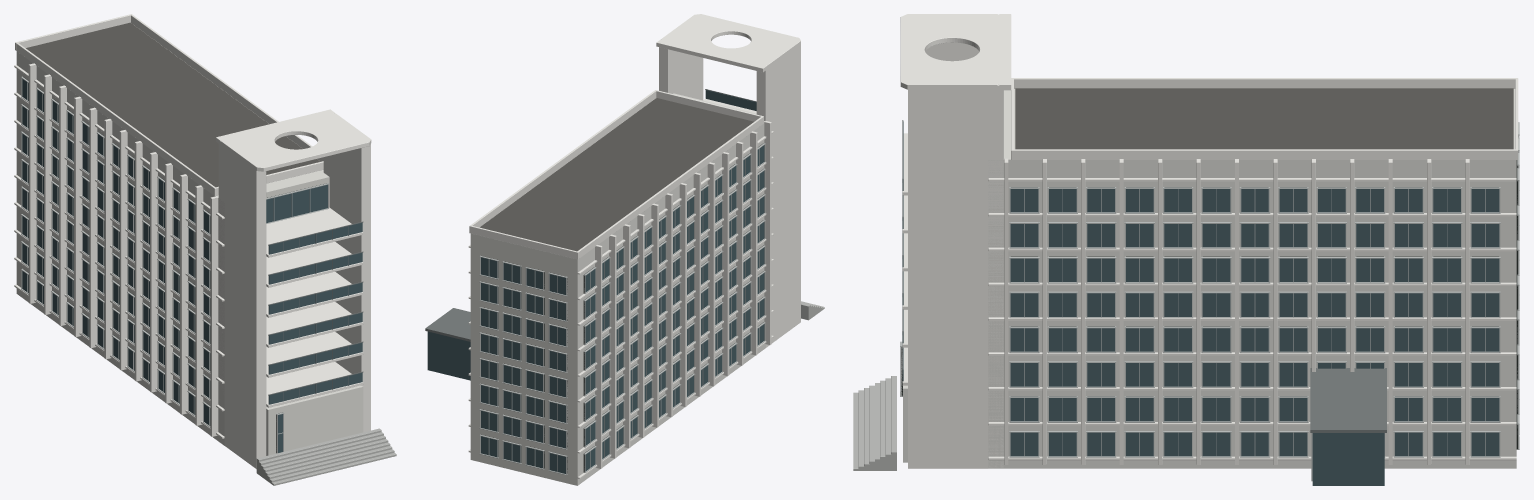
3 renders of one model, left to right at view 1: azimuth 30°, elevation 25°; view 2: azimuth 150°, elevation 25°; view 3: azimuth 270°, elevation 25°, orthographic. The views are drawn at different scales.
Visible parts, largest first — view 1: long-face-vertical-fins__trim, end-wall-piers__trim, rear-roof__roof, long-face-glazing__glass, balcony-slabs__trim, long-face-glazing__frame, main-slab__stone, balcony-glass-rails__glass, rear-roof__trim, roof-real-circular-opening__trim, end-solid-lower-wall__stone, entry-terrace__concrete (+5 smaller); view 2: long-face-vertical-fins__trim, main-slab__stone, rear-roof__roof, long-face-glazing__glass, end-wall-piers__trim, estimated-back-glazing__glass, long-face-glazing__frame, rear-roof__trim, estimated-back-glazing__frame, roof-real-circular-opening__trim, long-face-floor-bands__trim, short-glass-link__glass (+5 smaller); view 3: long-face-glazing__glass, main-slab__stone, end-wall-piers__trim, rear-roof__roof, long-face-glazing__frame, long-face-vertical-fins__trim, long-face-floor-bands__trim, rear-roof__trim, roof-real-circular-opening__trim, link-roof__metal, short-glass-link__glass, entry-terrace__concrete (+4 smaller).
Part boxes in pixels (x1,y1,x2,y2): long-face-vertical-fins__trim: [28, 63, 218, 436]; end-wall-piers__trim: [218, 140, 370, 468]; rear-roof__roof: [26, 22, 320, 187]; long-face-glazing__glass: [22, 79, 210, 425]; balcony-slabs__trim: [266, 207, 363, 407]; long-face-glazing__frame: [21, 76, 210, 427]; main-slab__stone: [16, 25, 329, 445]; balcony-glass-rails__glass: [268, 222, 362, 404]; rear-roof__trim: [15, 14, 323, 195]; roof-real-circular-opening__trim: [221, 112, 371, 171]; end-solid-lower-wall__stone: [266, 385, 363, 455]; entry-terrace__concrete: [256, 428, 396, 485]; long-face-vertical-fins__trim: [595, 121, 771, 468]; main-slab__stone: [470, 93, 765, 485]; rear-roof__roof: [480, 98, 753, 251]; long-face-glazing__glass: [585, 145, 764, 470]; end-wall-piers__trim: [659, 39, 800, 347]; estimated-back-glazing__glass: [481, 257, 565, 473]; long-face-glazing__frame: [584, 143, 765, 472]; rear-roof__trim: [469, 90, 763, 259]; estimated-back-glazing__frame: [479, 255, 567, 475]; roof-real-circular-opening__trim: [661, 14, 800, 67]; long-face-floor-bands__trim: [468, 131, 773, 479]; short-glass-link__glass: [427, 331, 470, 380]; long-face-glazing__glass: [1010, 189, 1499, 456]; main-slab__stone: [988, 89, 1516, 468]; end-wall-piers__trim: [908, 42, 1003, 468]; rear-roof__roof: [1015, 88, 1513, 149]; long-face-glazing__frame: [1009, 187, 1500, 457]; long-face-vertical-fins__trim: [1004, 158, 1469, 464]; long-face-floor-bands__trim: [988, 178, 1516, 460]; rear-roof__trim: [1011, 78, 1518, 159]; roof-real-circular-opening__trim: [900, 14, 1003, 89]; link-roof__metal: [1310, 368, 1386, 432]; short-glass-link__glass: [1312, 433, 1384, 485]; entry-terrace__concrete: [853, 376, 896, 470].
Bounding box in the file's own units: 27 × 35.25 × 55.5.
